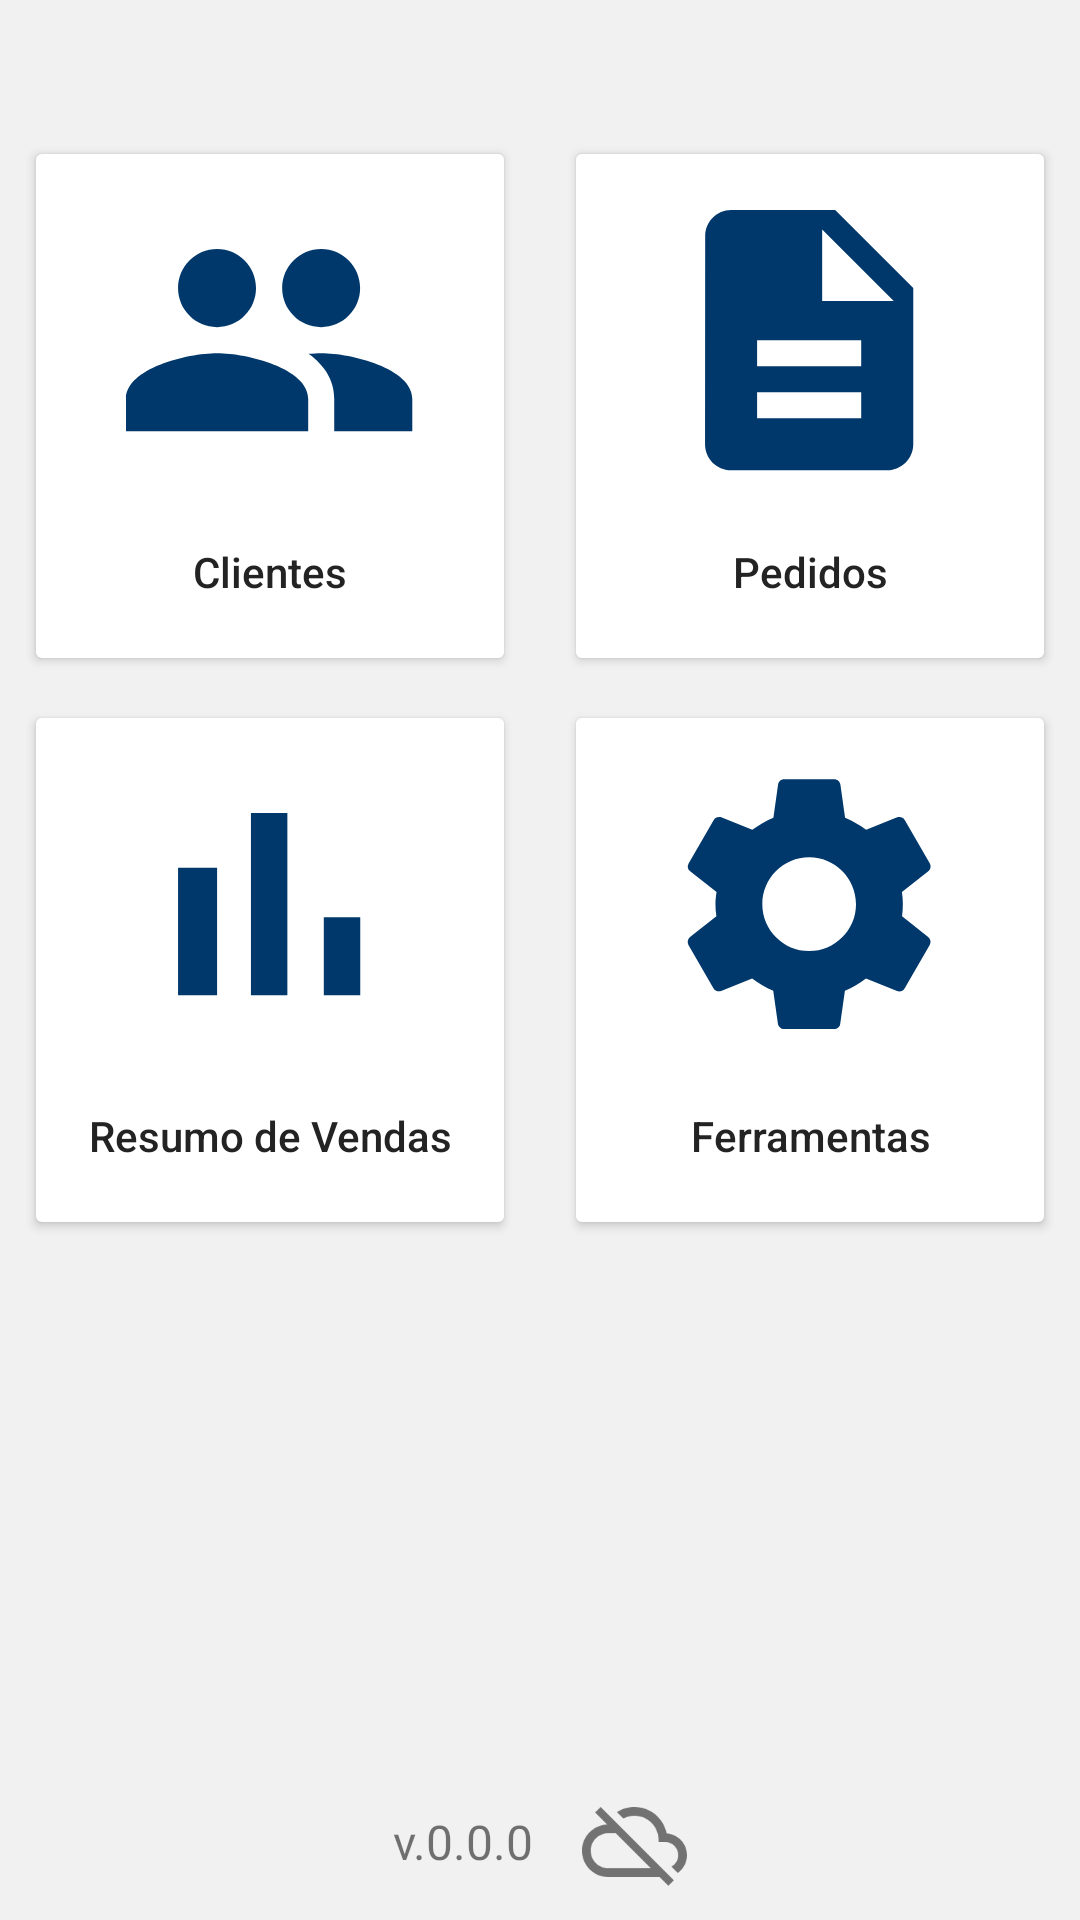

Where icons sit on this 1080x1920 app screen, as rect(x1, y1, x2, y2):
maxima nuvem desconectado: rect(582, 1807, 687, 1886)
